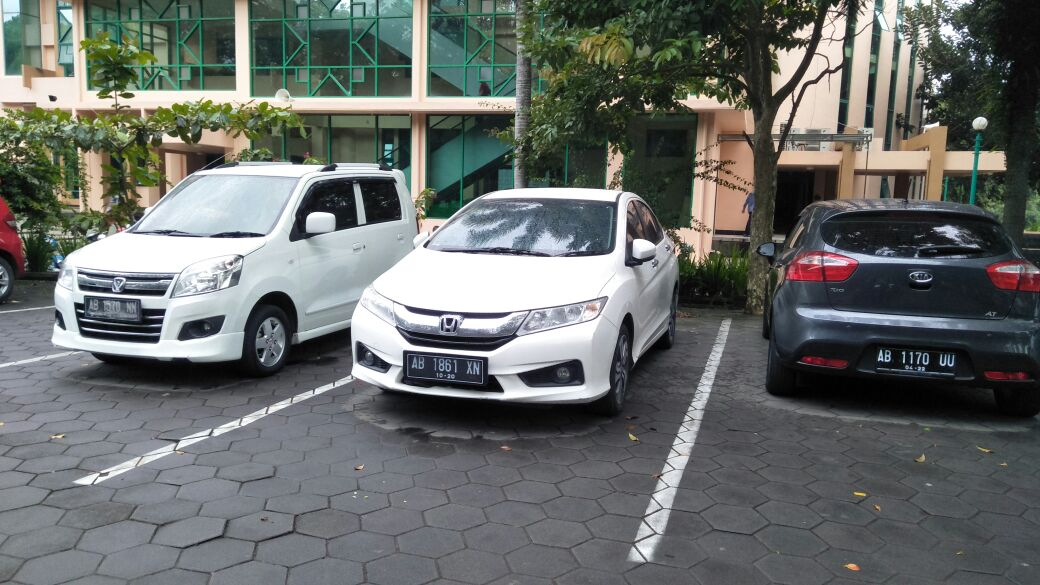plate: (874, 345, 960, 375), (404, 352, 485, 383), (85, 293, 141, 324)
